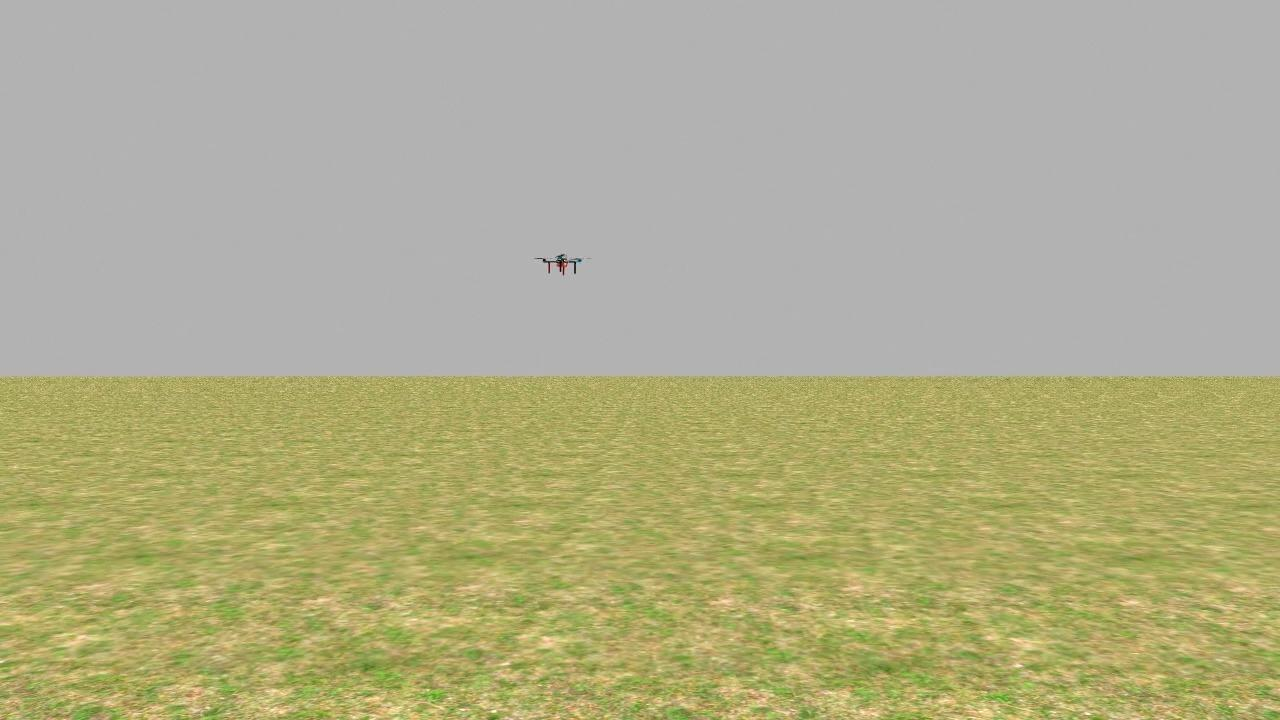UAV: (540, 243, 583, 281)
